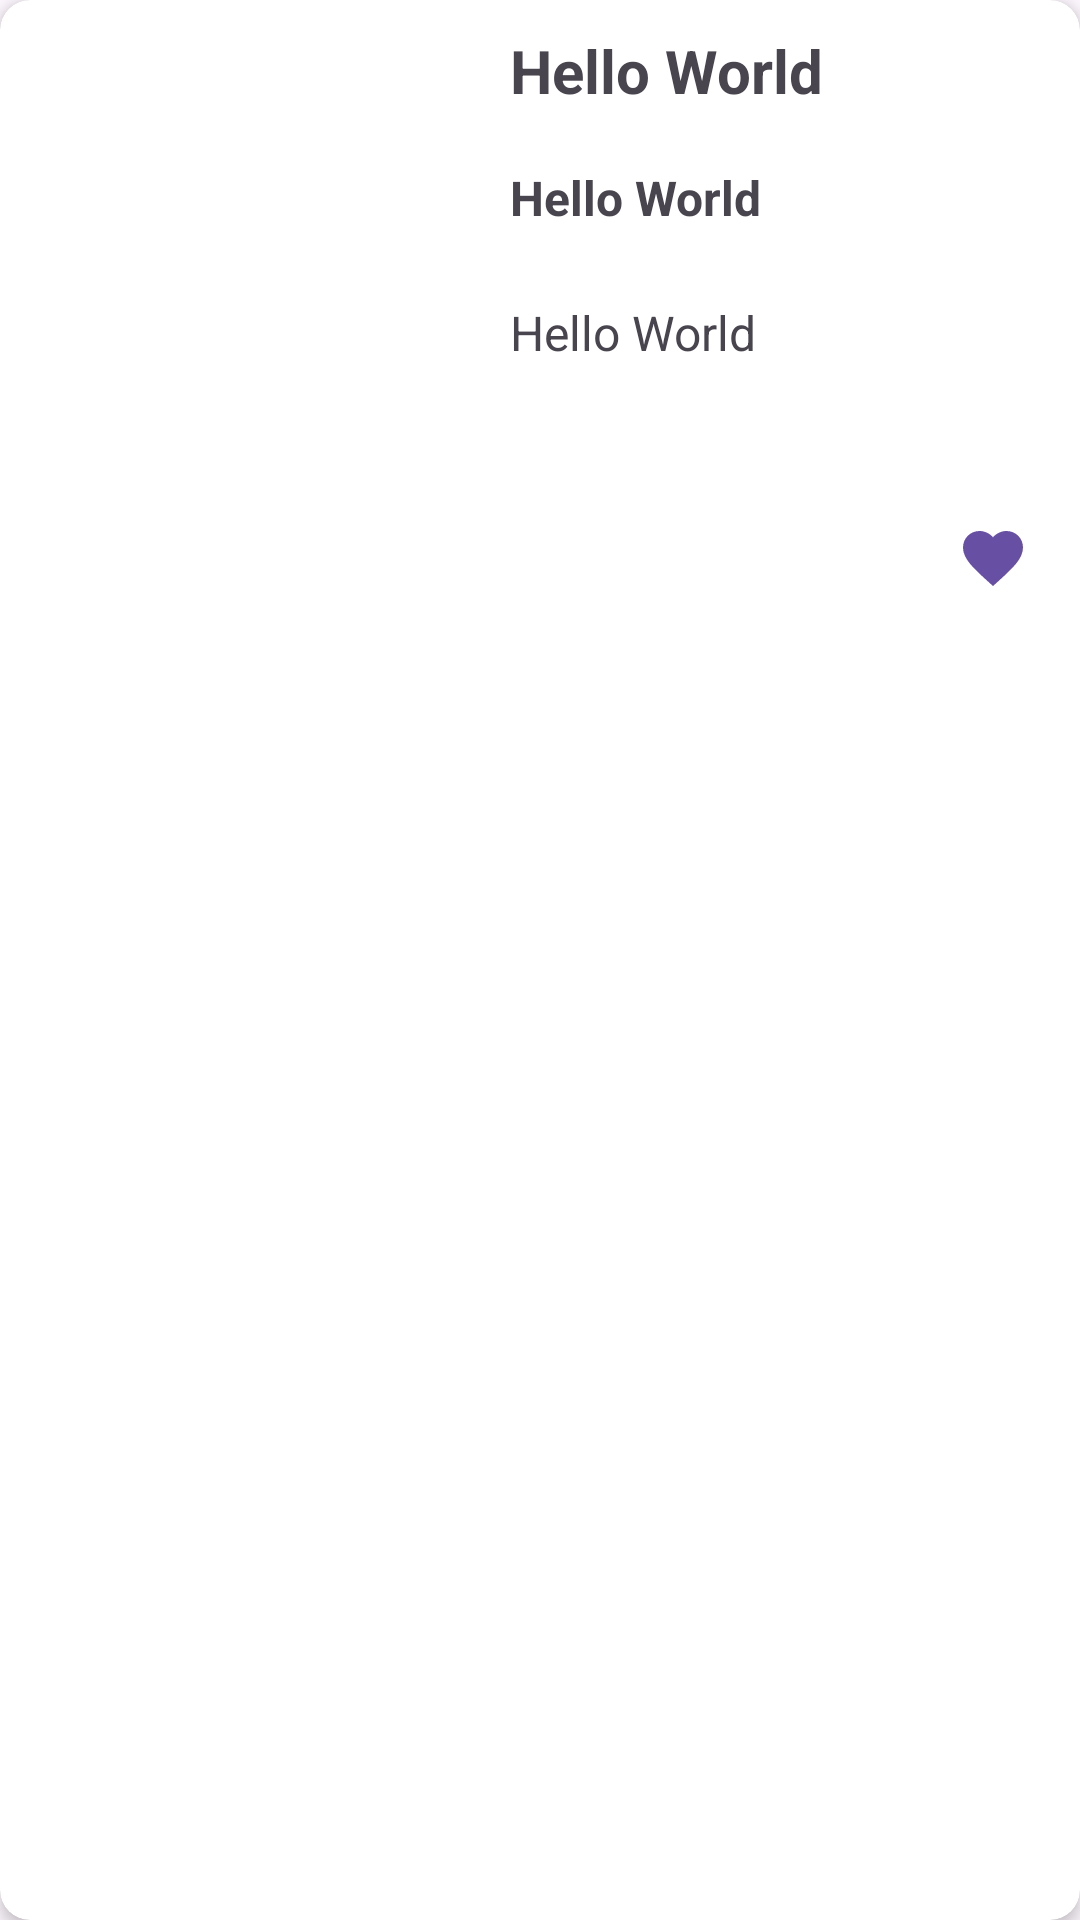

Screen size 1080x1920. Icon name, then its center in pixels as point (x, y):
wishlist: point (993, 558)
